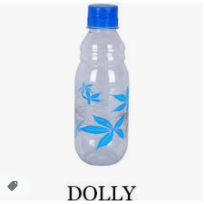Bottle: (75, 4, 128, 164)
